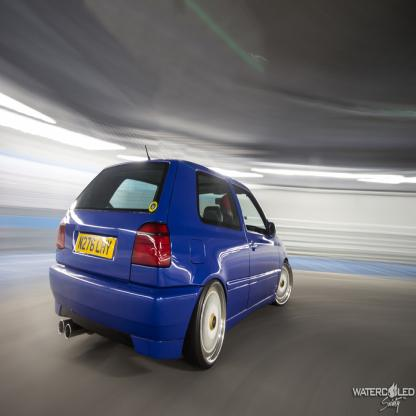Car: (50, 145, 296, 372)
